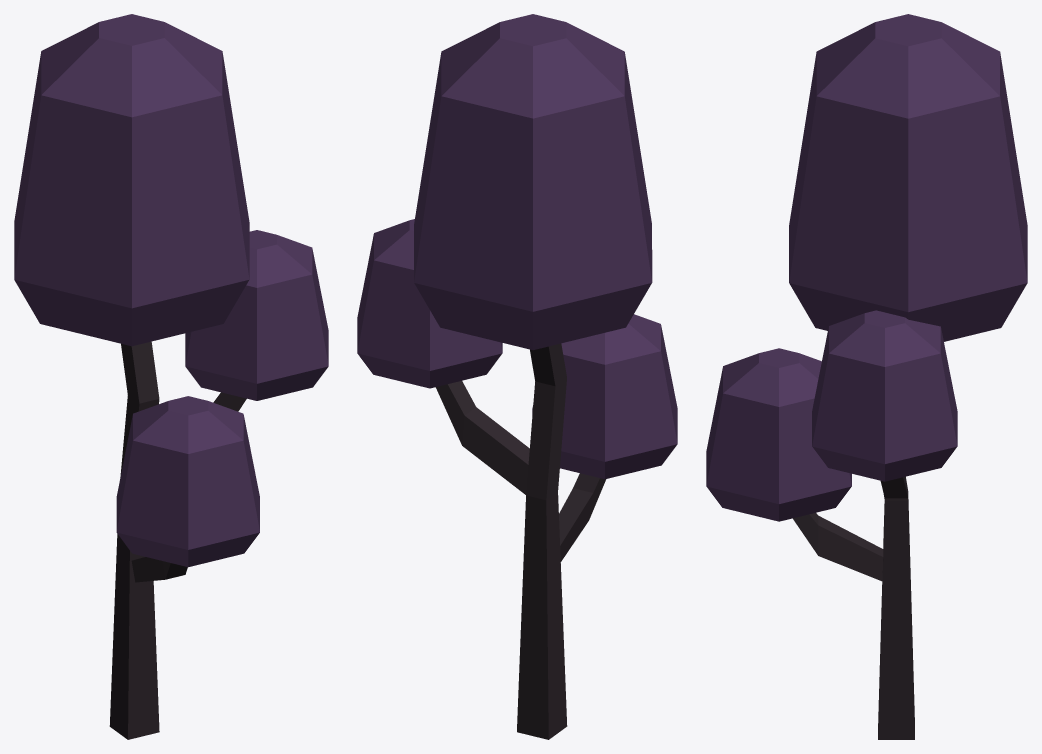
Rendered from arbre-sorciere-1.glb.
3 views of the same model, side by side, from view 1: azimuth 30°, elevation 25°; view 2: azimuth 150°, elevation 25°; view 3: azimuth 270°, elevation 25° (orthographic).
Visible parts, largest first — view 1: tree_thin_dark; view 2: tree_thin_dark; view 3: tree_thin_dark.
Boxes of the visible parts, box(x1,y1,x2,y2) form: tree_thin_dark: box(14, 14, 328, 739); tree_thin_dark: box(357, 14, 677, 739); tree_thin_dark: box(706, 14, 1027, 739).
Size of the model in its own units: 5.94 by 13 by 5.38.
